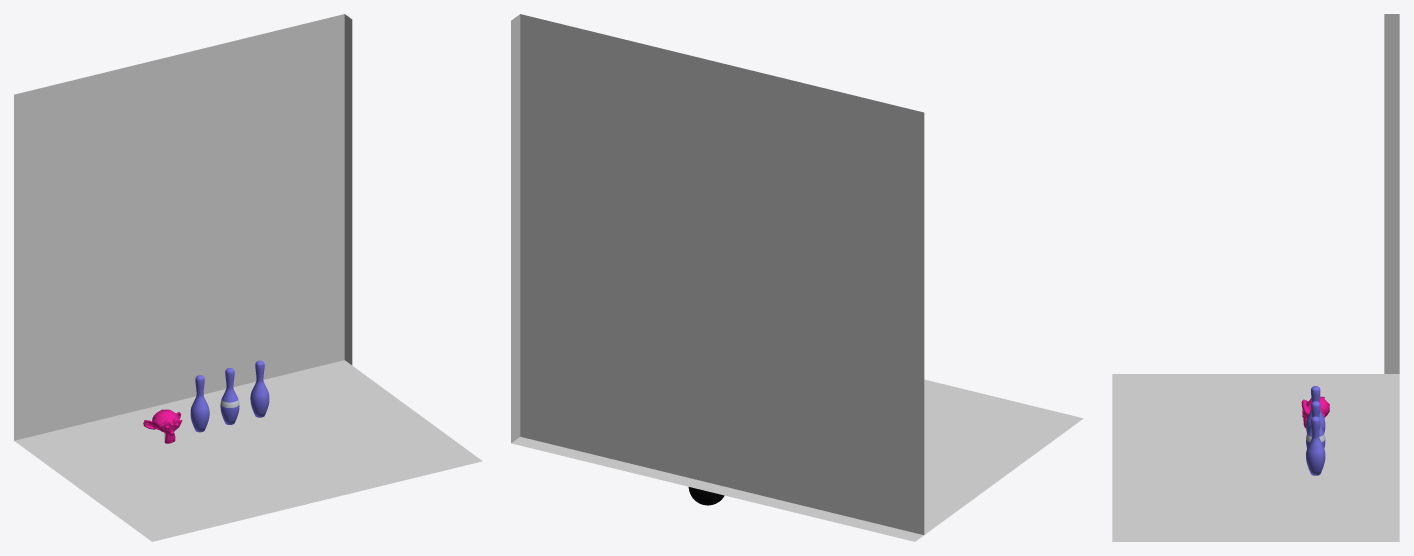
Rendered from HAHA.glb.
3 renders of one model, left to right at view 1: azimuth 30°, elevation 25°; view 2: azimuth 150°, elevation 25°; view 3: azimuth 270°, elevation 25°, orthographic. The views are drawn at different scales.
Parts seen in each view (by area): view 1: Plane, Whirligig, Pin2, Pin, Pin3; view 2: Plane; view 3: Plane, Pin3, Whirligig.
Part boxes in pixels (<box>): Plane: <box>14,14,482,541</box>; Whirligig: <box>143,409,182,443</box>; Pin2: <box>190,375,209,432</box>; Pin: <box>220,368,239,424</box>; Pin3: <box>250,360,269,417</box>; Plane: <box>511,14,1083,541</box>; Plane: <box>1112,14,1399,541</box>; Pin3: <box>1306,416,1325,475</box>; Whirligig: <box>1301,396,1329,428</box>.
Size of the model in its own units: 24.08 by 26.39 by 17.43.
